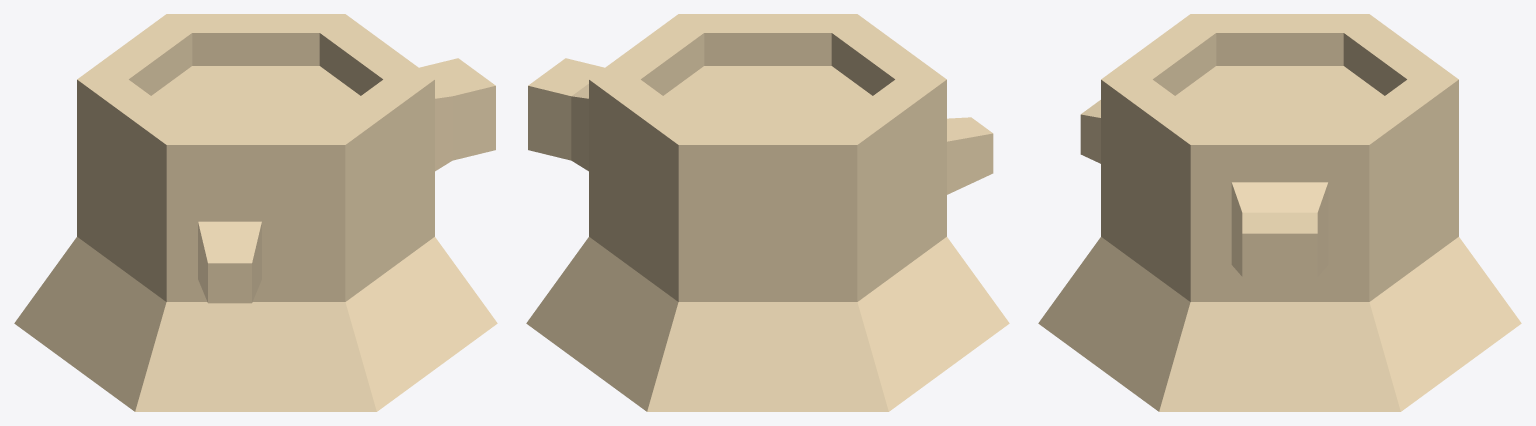
The model's file is naturePack_080.fbx.
The picture shows the model from 3 angles, left to right: view 1: azimuth 30°, elevation 25°; view 2: azimuth 150°, elevation 25°; view 3: azimuth 270°, elevation 25°; orthographic projection.
Parts seen in each view (by area): view 1: naturePack_080; view 2: naturePack_080; view 3: naturePack_080.
Boxes of the visible parts, x1,y1,x2,y2 form: naturePack_080: [14, 14, 497, 411]; naturePack_080: [526, 14, 1009, 411]; naturePack_080: [1038, 14, 1521, 411].
Size of the model in its own units: 102 by 59 by 106.
